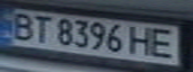3: (69, 18, 90, 50)
6: (106, 21, 130, 54)
8: (51, 16, 75, 47)
9: (87, 20, 109, 52)
B: (6, 10, 39, 40)
E: (145, 26, 181, 60)
H: (124, 24, 157, 56)
T: (27, 12, 54, 44)
